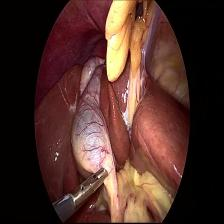Grasper: (72, 167, 109, 207)
